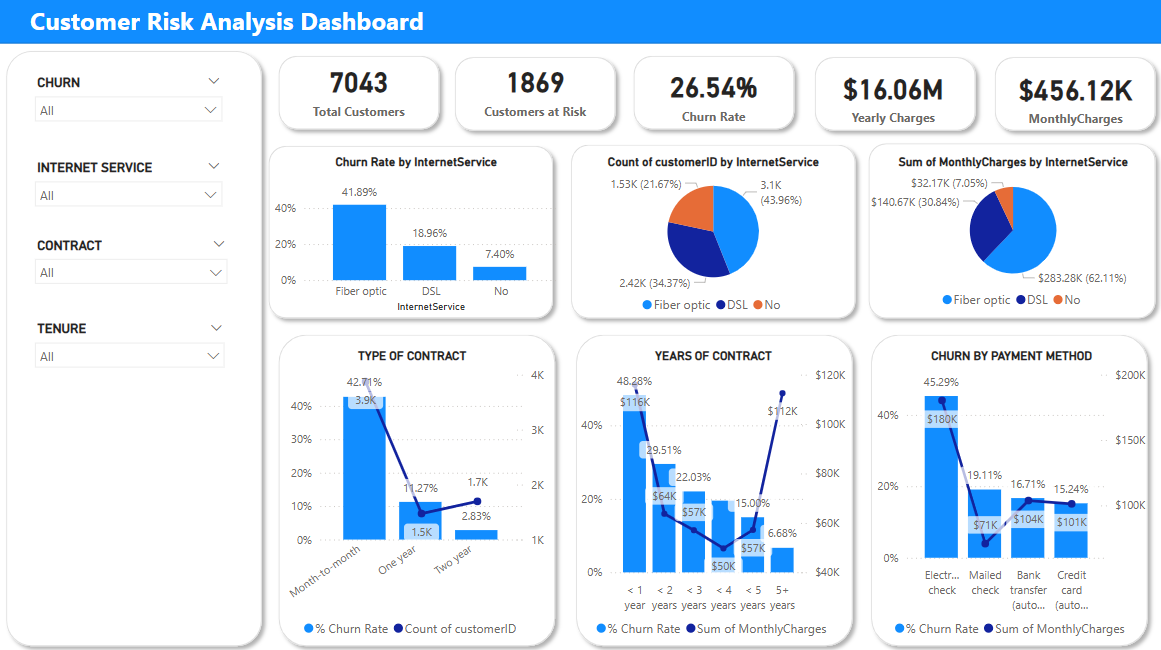

The dashboard page shown, as its layout file describes it:
{"tool":"powerbi","page":{"name":"Customer Risk Analysis","canvas":[1280,720],"ordinal":1},"visuals":[{"type":"shape","box":[1085.7,54.3,194.3,98.6],"z":0},{"type":"shape","box":[887.1,54.3,194.3,98.6],"z":1000},{"type":"shape","box":[688.6,52.9,194.3,98.6],"z":2000},{"type":"shape","box":[492.9,54.3,194.3,98.6],"z":3000},{"type":"shape","box":[0,0,1280,49],"z":4000},{"type":"textbox","box":[30,0,462.9,52.9],"z":5000},{"type":"shape","box":[298.6,52.9,194.3,98.6],"z":6000},{"type":"card","title":"Total Customers","fields":{"Values":["CountNonNull(Customer Churn-Dataset.customerID)"]},"box":[337.1,48.6,117.1,101.4],"z":7000},{"type":"card","title":"Total Customers","fields":{"Values":["Customer Churn-Dataset.% Churn Rate"]},"box":[727.1,52.9,117.1,101.4],"z":8000},{"type":"card","title":"Total Customers","fields":{"Values":["Sum(Customer Churn-Dataset.FixedTotalCharges)"]},"box":[920,54.3,127.1,101.4],"z":9000},{"type":"card","title":"Total Customers","fields":{"Values":["Sum(Customer Churn-Dataset.MonthlyCharges)"]},"box":[1108.6,55.7,148.6,101.4],"z":10000},{"type":"card","title":"Total Customers","fields":{"Values":["CountNonNull(Customer Churn-Dataset.customerID)"]},"box":[510,48.6,158.6,101.4],"z":11000},{"type":"shape","box":[0,48.6,298.6,671.4],"z":12000},{"type":"shape","box":[288.6,152.9,330,207.1],"z":13000},{"type":"shape","box":[620,151.4,330,208.6],"z":14000},{"type":"shape","box":[947.1,150,332.9,210],"z":15000},{"type":"shape","box":[298.6,360,321.4,360],"z":16000},{"type":"shape","box":[625.7,360,321.4,360],"z":17000},{"type":"shape","box":[950,360,321.4,360],"z":18000},{"type":"slicer","fields":{"Values":["Customer Churn-Dataset.Churn"]},"box":[30,78.6,225.7,71.4],"z":19000},{"type":"slicer","fields":{"Values":["Customer Churn-Dataset.InternetService"]},"box":[30,171.4,225.7,70],"z":20000},{"type":"slicer","fields":{"Values":["Customer Churn-Dataset.Contract"]},"box":[30,257.1,231.4,67.1],"z":21000},{"type":"slicer","fields":{"Values":["Customer Churn-Dataset.tenure"]},"box":[30,348.6,228.6,71.4],"z":22000},{"type":"columnChart","title":"Churn Rate by InternetService","fields":{"Category":["Customer Churn-Dataset.InternetService"],"Y":["Customer Churn-Dataset.% Churn Rate"]},"box":[298.6,171.4,320,177.1],"z":23000},{"type":"pieChart","fields":{"Category":["Customer Churn-Dataset.InternetService"],"Y":["CountNonNull(Customer Churn-Dataset.customerID)"]},"box":[635.7,171.4,300,182.9],"z":24000},{"type":"pieChart","fields":{"Category":["Customer Churn-Dataset.InternetService"],"Y":["Sum(Customer Churn-Dataset.MonthlyCharges)"]},"box":[950,171.4,330,177.1],"z":25000},{"type":"lineStackedColumnComboChart","title":"TYPE OF CONTRACT","fields":{"Category":["Customer Churn-Dataset.Contract"],"Y":["Customer Churn-Dataset.% Churn Rate"],"Y2":["CountNonNull(Customer Churn-Dataset.customerID)"]},"box":[304.3,384.3,300,325.7],"z":26000},{"type":"lineStackedColumnComboChart","title":"YEARS OF CONTRACT","fields":{"Category":["Customer Churn-Dataset.Tenure Group"],"Y":["Customer Churn-Dataset.% Churn Rate"],"Y2":["Sum(Customer Churn-Dataset.MonthlyCharges)"]},"box":[635.7,384.3,300,325.7],"z":27000},{"type":"lineStackedColumnComboChart","title":"CHURN BY PAYMENT METHOD","fields":{"Category":["Customer Churn-Dataset.PaymentMethod"],"Y":["Customer Churn-Dataset.% Churn Rate"],"Y2":["Sum(Customer Churn-Dataset.MonthlyCharges)"]},"box":[960,384.3,304.3,325.7],"z":28000}]}

Visuals, with their boxes in screenshot pixels (x1, y1, x2, y2), scaled from the page's 1280x720 canvas onto the 1161x650 screenshot:
shape: 985, 49, 1160, 138
shape: 805, 49, 981, 138
shape: 625, 48, 801, 137
shape: 447, 49, 623, 138
shape: 0, 0, 1160, 44
textbox: 27, 0, 447, 48
shape: 271, 48, 447, 137
"Total Customers" card: 306, 44, 412, 135
"Total Customers" card: 660, 48, 766, 139
"Total Customers" card: 834, 49, 950, 141
"Total Customers" card: 1006, 50, 1140, 142
"Total Customers" card: 463, 44, 606, 135
shape: 0, 44, 271, 649
shape: 262, 138, 561, 325
shape: 562, 137, 862, 325
shape: 859, 135, 1160, 325
shape: 271, 325, 562, 649
shape: 568, 325, 859, 649
shape: 862, 325, 1153, 649
slicer - Customer Churn-Dataset.Churn: 27, 71, 232, 135
slicer - Customer Churn-Dataset.InternetService: 27, 155, 232, 218
slicer - Customer Churn-Dataset.Contract: 27, 232, 237, 293
slicer - Customer Churn-Dataset.tenure: 27, 315, 235, 379
"Churn Rate by InternetService" columnChart: 271, 155, 561, 315
pieChart - Customer Churn-Dataset.InternetService x CountNonNull(Customer Churn-Dataset.customerID): 577, 155, 849, 320
pieChart - Customer Churn-Dataset.InternetService x Sum(Customer Churn-Dataset.MonthlyCharges): 862, 155, 1160, 315
"TYPE OF CONTRACT" lineStackedColumnComboChart: 276, 347, 548, 641
"YEARS OF CONTRACT" lineStackedColumnComboChart: 577, 347, 849, 641
"CHURN BY PAYMENT METHOD" lineStackedColumnComboChart: 871, 347, 1147, 641
